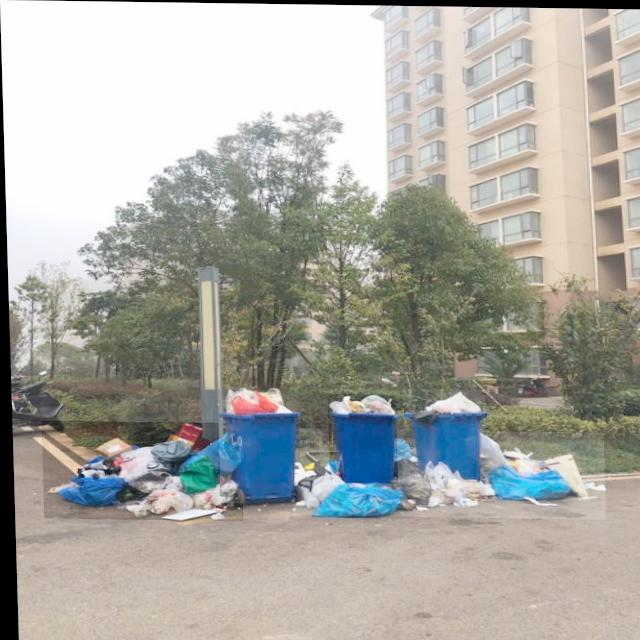garbage: (288, 427, 603, 518), (39, 420, 240, 521)
overflow: (215, 386, 299, 503), (400, 388, 485, 478), (325, 393, 395, 482)
